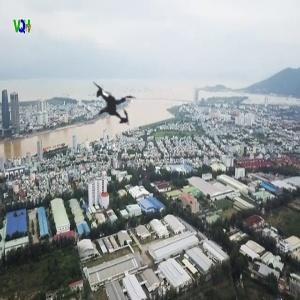drone: (70, 59, 158, 147)
